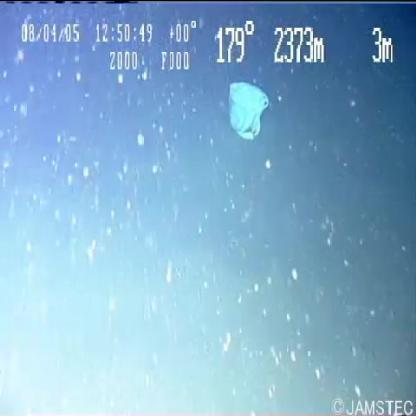Rác: (228, 82, 270, 140)
